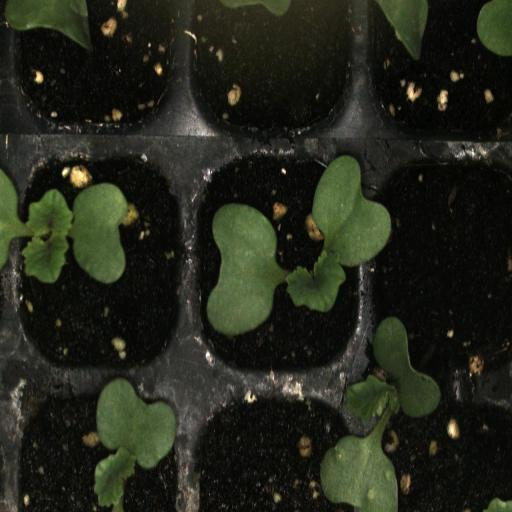Folha: (320, 317, 441, 512), (349, 0, 428, 57), (477, 0, 512, 56)
Germinacao: (189, 141, 367, 387), (8, 142, 188, 381), (10, 381, 188, 512)
